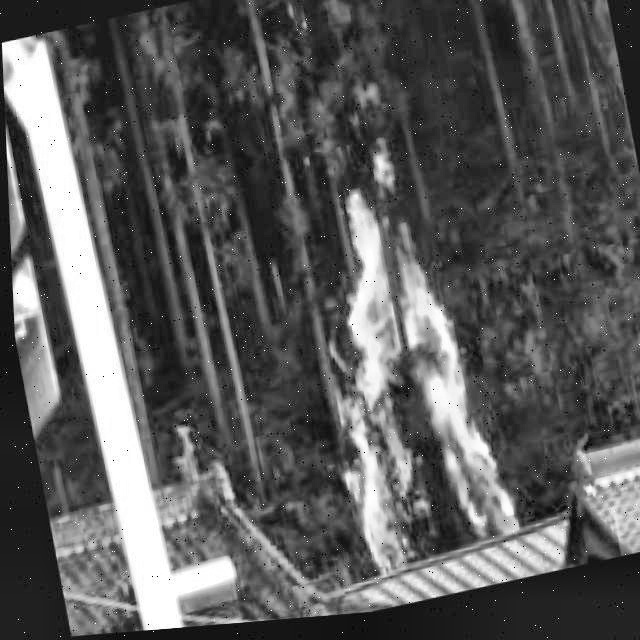Fire: (273, 128, 524, 576)
